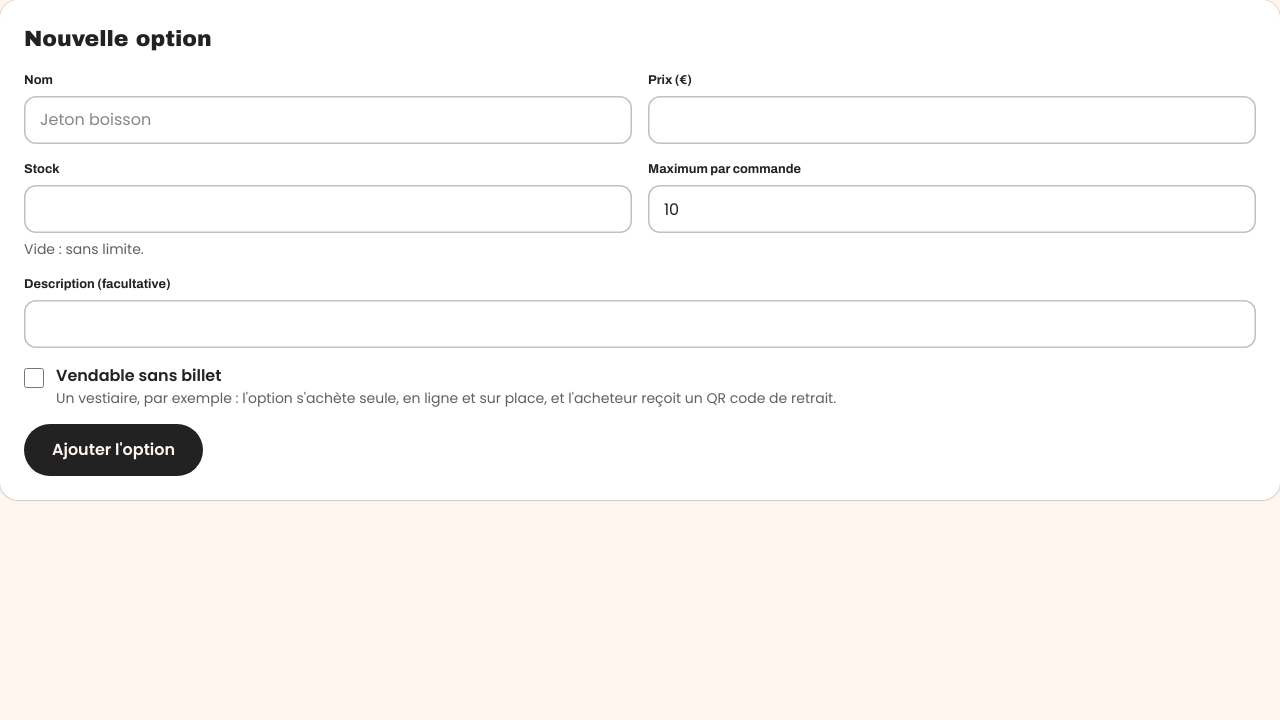
Test: options d'un événement (section 9.29) › nouvelle option : créée, « vendable seule » transmise, confirmée
This screenshot has width=1280, height=720.
Type "Vestiaire" into the field with id "option-new-name" at [328, 120], box [24, 96, 632, 144]
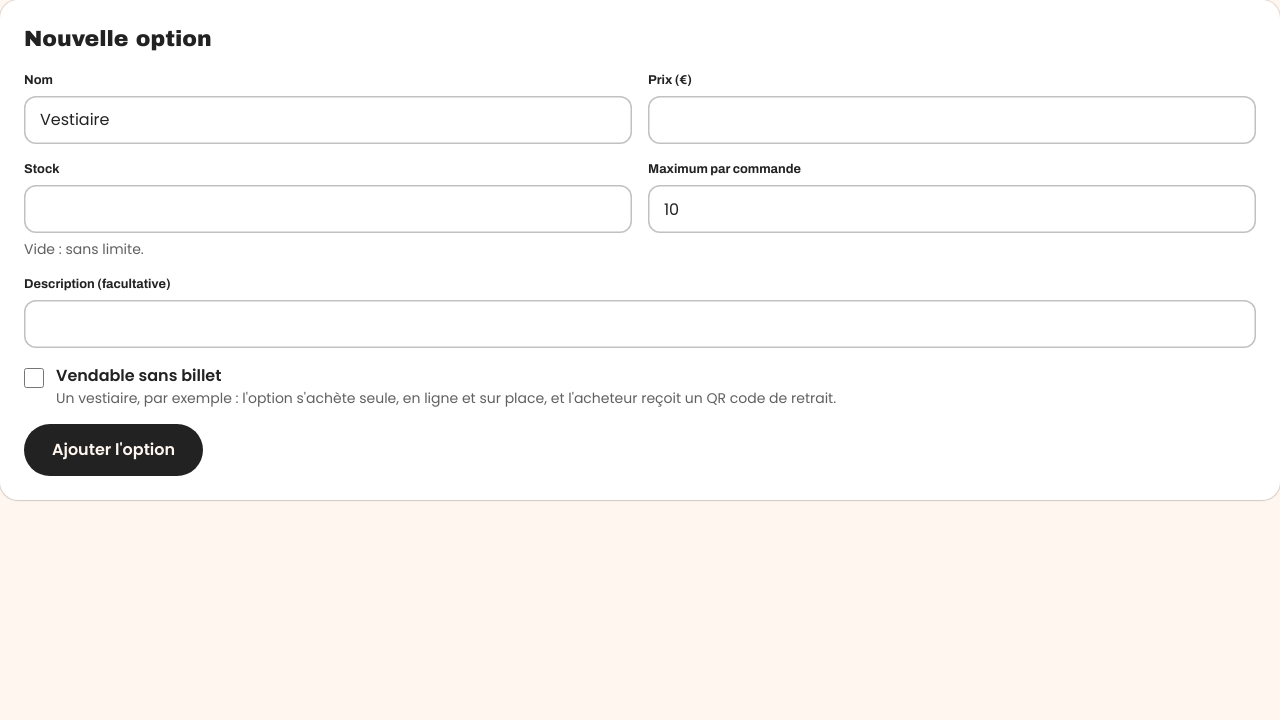
Type "2" into the field with id "option-new-price" at [952, 120], box [648, 96, 1256, 144]
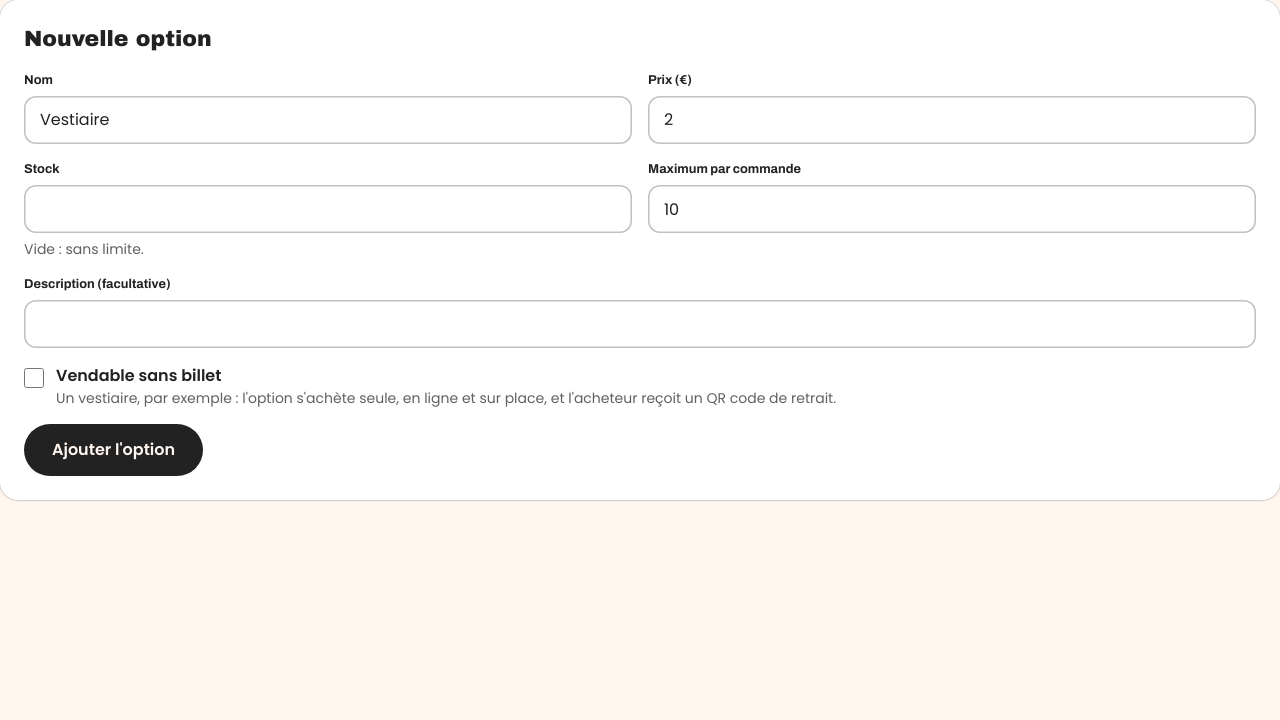
Click the checkbox at [34, 378], box [24, 368, 44, 388]
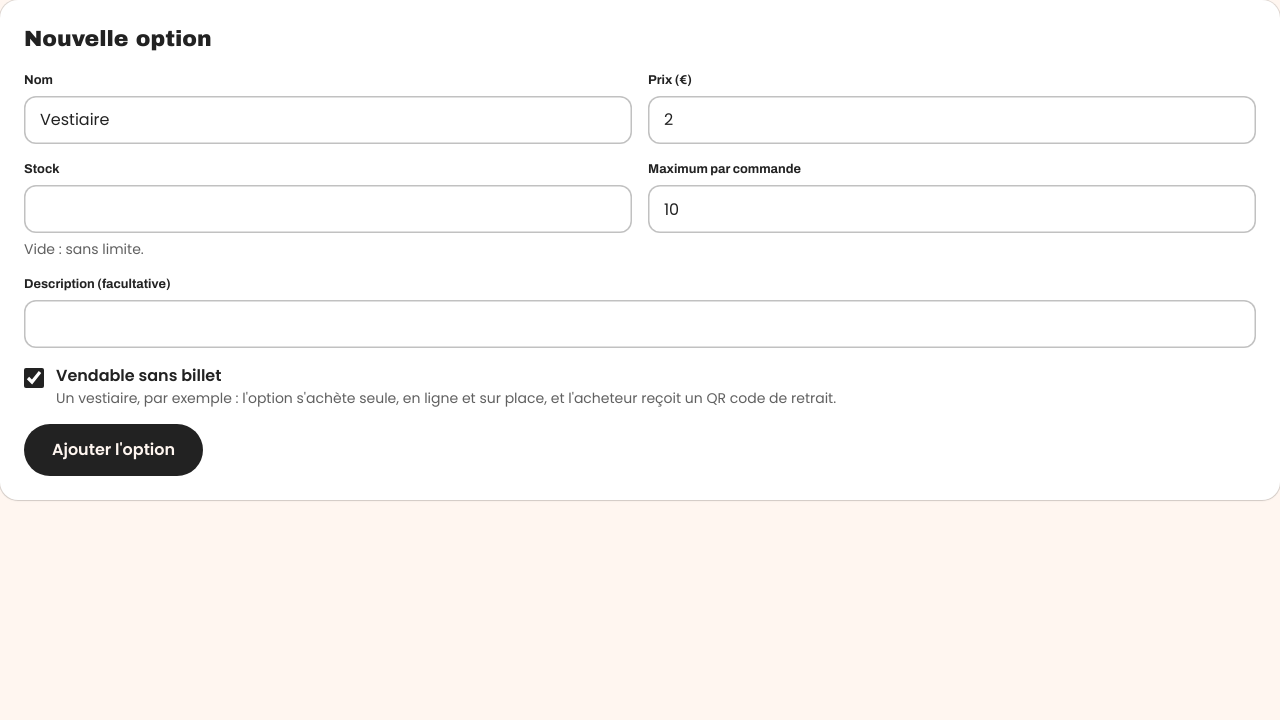
Submit the form named "Ajouter l'option", box [24, 71, 1256, 476]
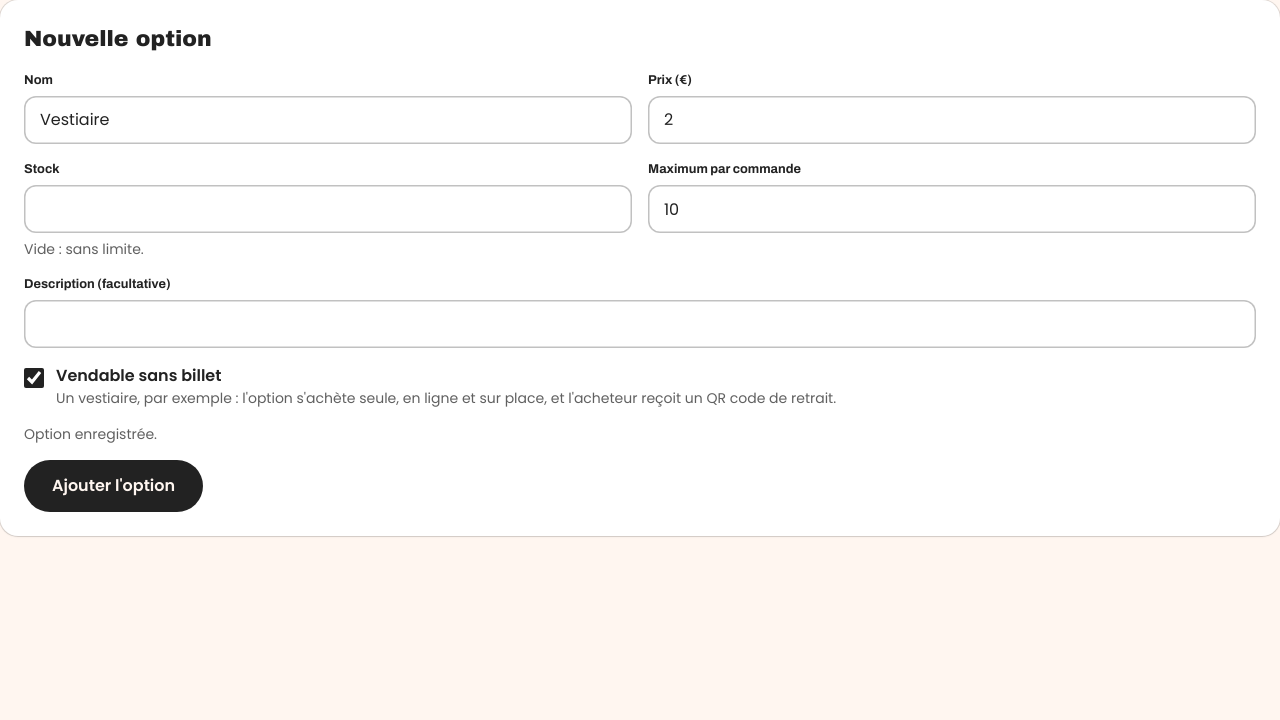
Check: the text "Option enregistrée." is shown, box [24, 424, 157, 444]
